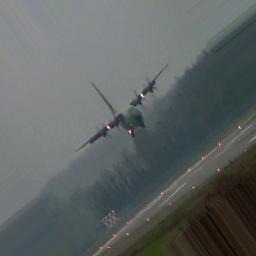Airplane: (71, 63, 169, 154)
